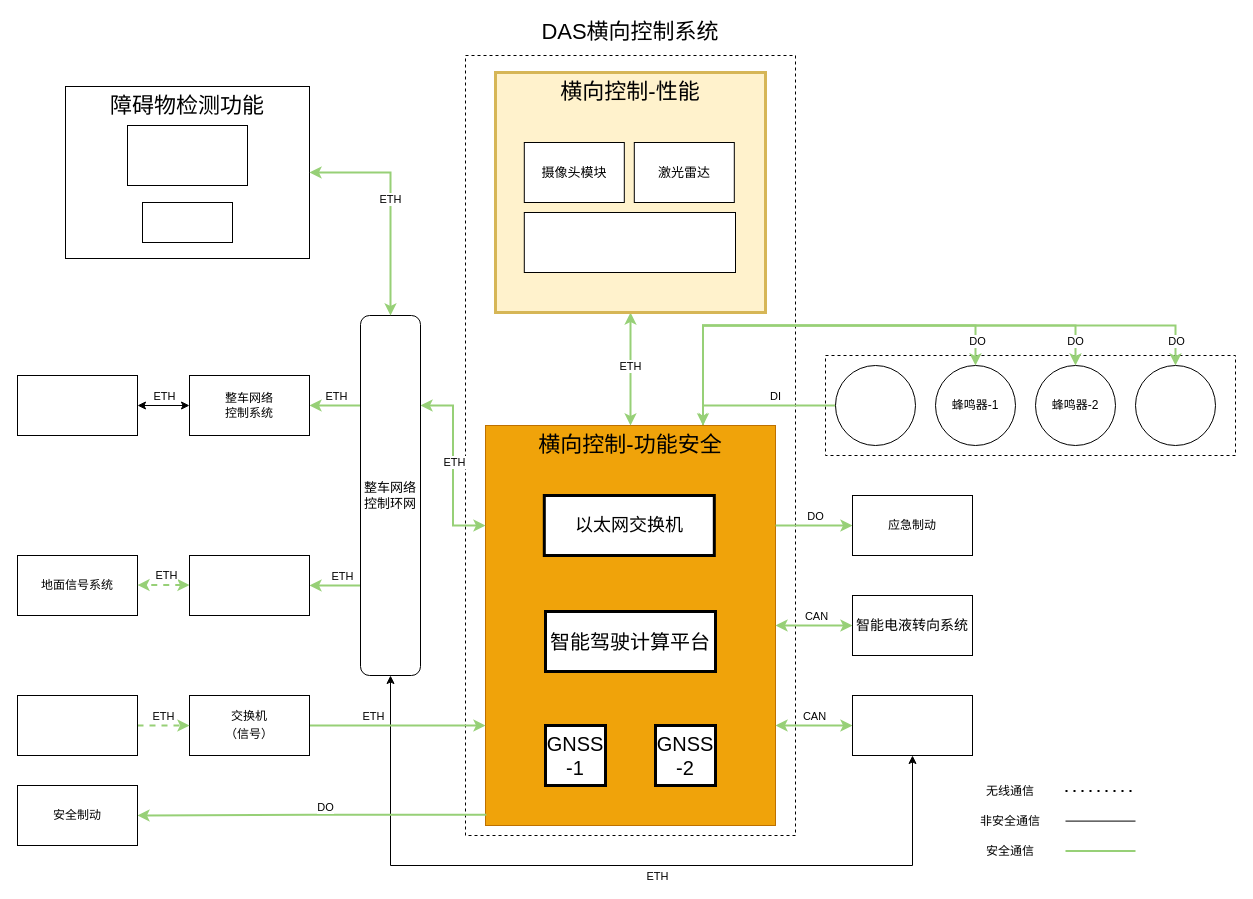
Some shapes in this 1253 by 899 pixel diagram are drawn without their labels. Here are the shapes that lost their labels. From the top down, the centre of each, then its label:
At [187,155]: "毫米波雷达".
At [187,222]: "其他传感器".
At [629,242]: "数据处理单元".
At [77,405]: "HMI".
At [875,405]: "循迹 按钮".
At [1175,405]: "偏离预警 灯显 DWS".
At [249,585]: "车载信号 VATC".
At [77,725]: "差分服务".
At [912,725]: "无轨导向 头轴转向控制器".
